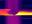Hotspot: (16, 10, 31, 15)
